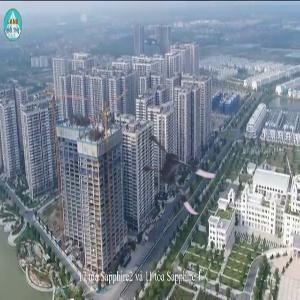drone: (134, 126, 227, 219)
